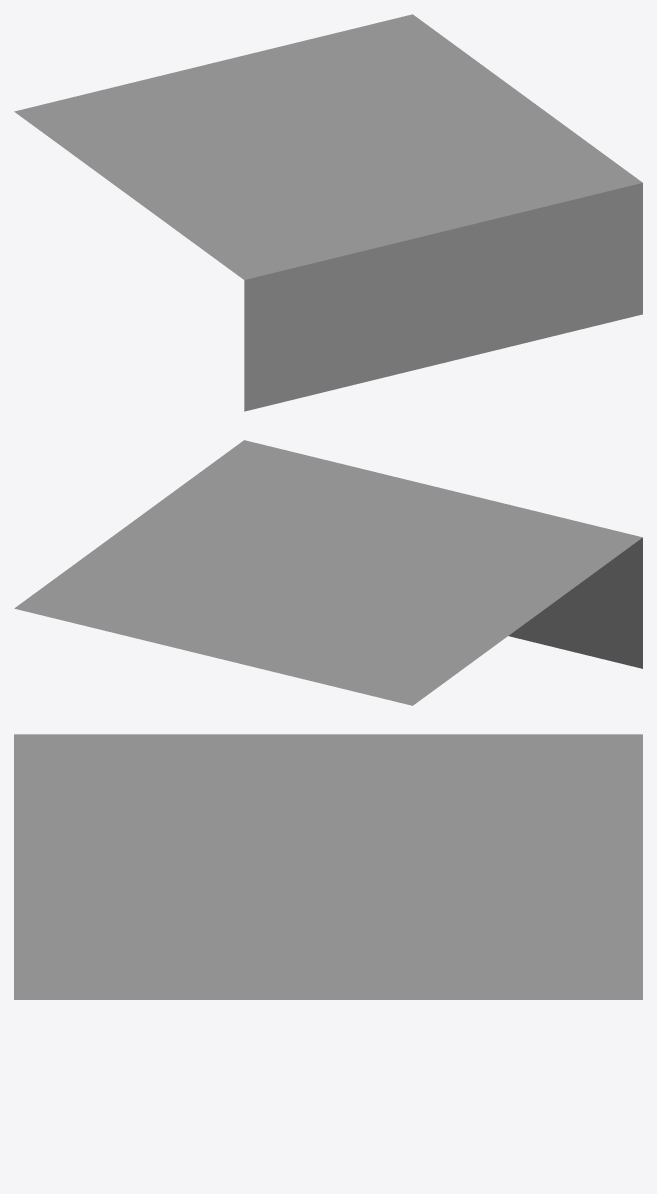
Rendered from beach_tile_1x1_008.glb.
3 views of the same model, one above another, from view 1: azimuth 30°, elevation 25°; view 2: azimuth 150°, elevation 25°; view 3: azimuth 270°, elevation 25° (orthographic). The views are drawn at different scales.
Visible parts, largest first — view 1: beach_tile_1x1_008; view 2: beach_tile_1x1_008; view 3: beach_tile_1x1_008.
Part boxes in pixels (left/top/right/bottom): beach_tile_1x1_008: left=14, top=14, right=642, bottom=411; beach_tile_1x1_008: left=14, top=440, right=642, bottom=705; beach_tile_1x1_008: left=14, top=734, right=642, bottom=999.
Bounding box in the file's own units: 8 × 2.52 × 8.
Materials: 1 (1 with a texture image).
